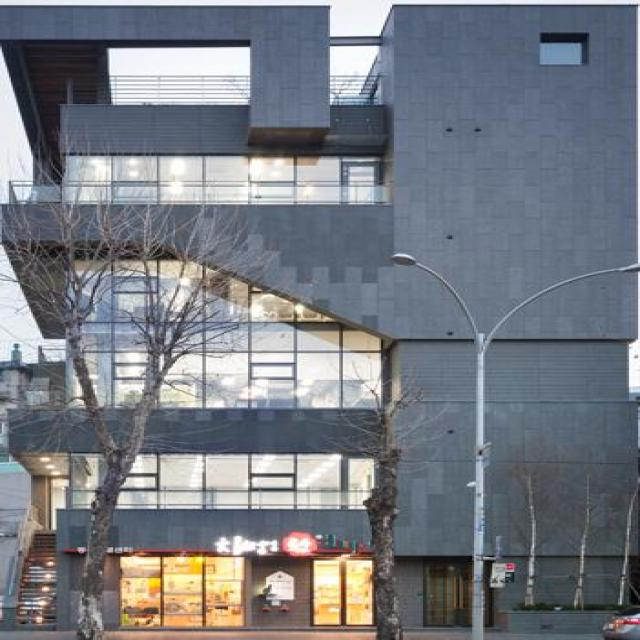Railing: (6, 182, 392, 204)
door: (158, 552, 242, 626), (318, 558, 376, 630)
wall: (1, 0, 638, 628)
windows: (76, 259, 381, 410), (72, 454, 375, 509), (63, 155, 386, 183)
